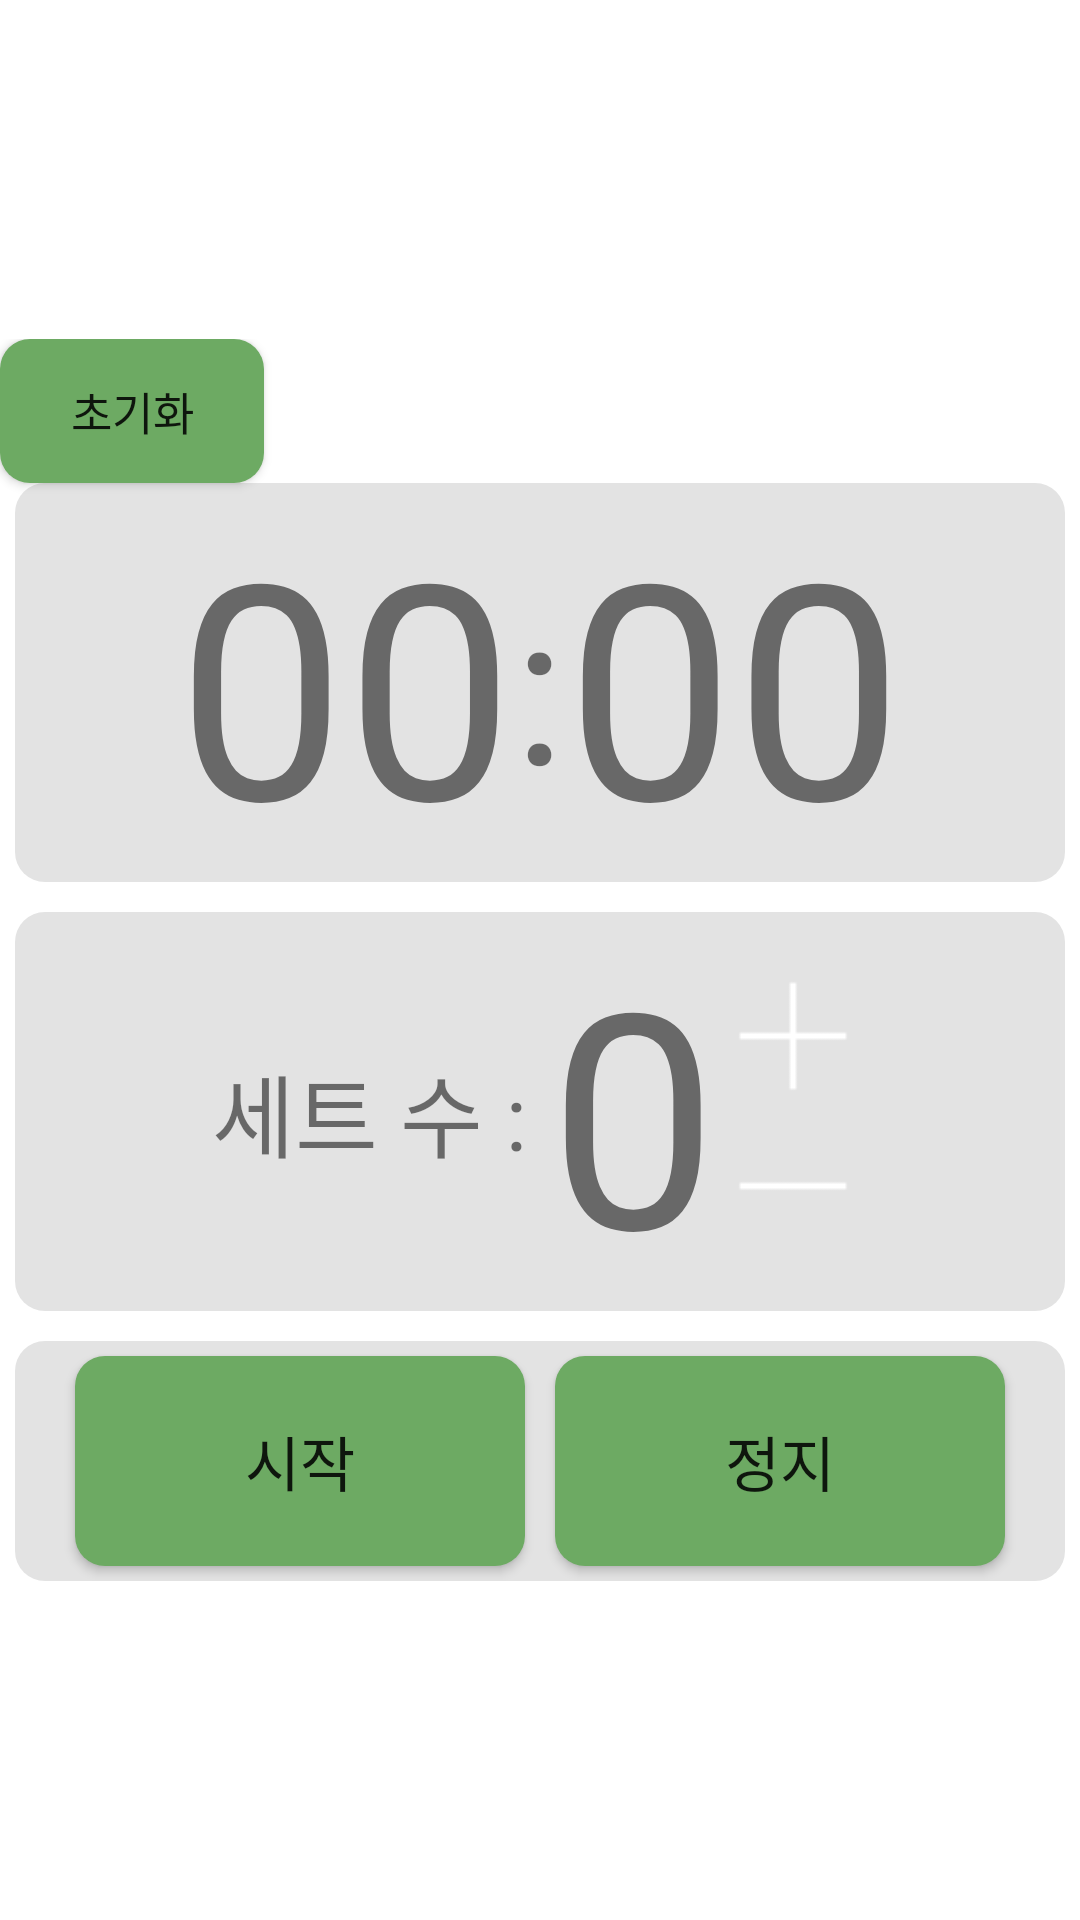

Where icons sit on this 1080w x 1920h app screen, as box=[x1, y1, x2, y2]:
plus: box=[741, 984, 845, 1088]
